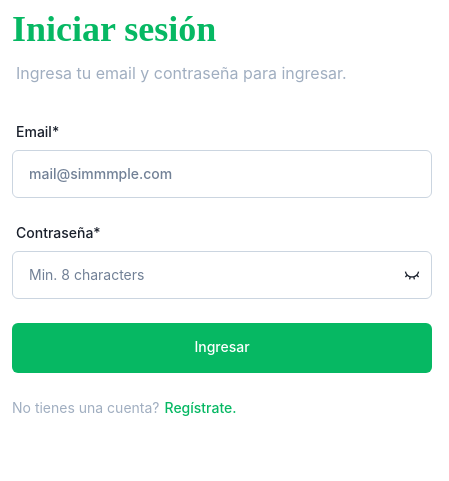
Test: FormL Component › debería mostrar un mensaje de error si ocurre un fallo en la autenticación
Step 1. Type "invalid@example.com" into the field with placeholder "mail@simmmple.com" → (222, 174), box [12,150,432,198]
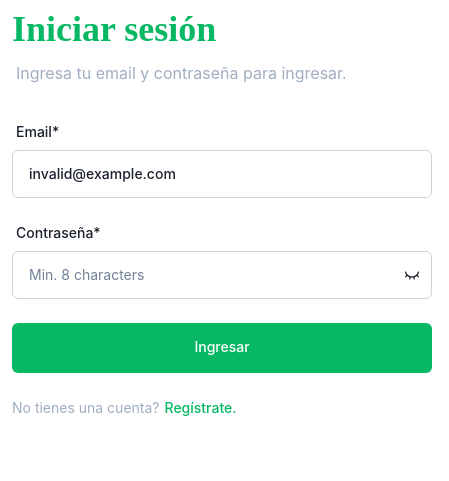
Step 2. Type "wrongpassword" into the password field with placeholder "Min. 8 characters" → (222, 275), box [12,251,432,299]
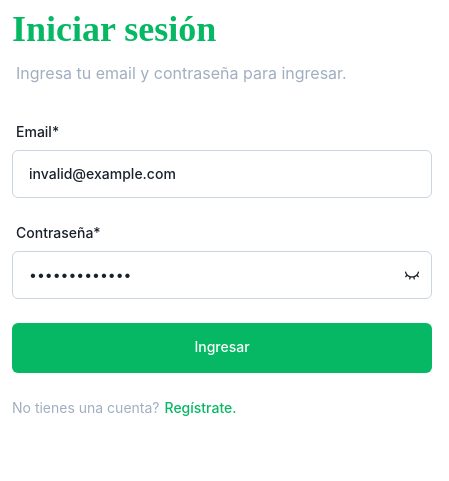
Step 3. Click the button "Ingresar" → (222, 348), box [12,323,432,373]
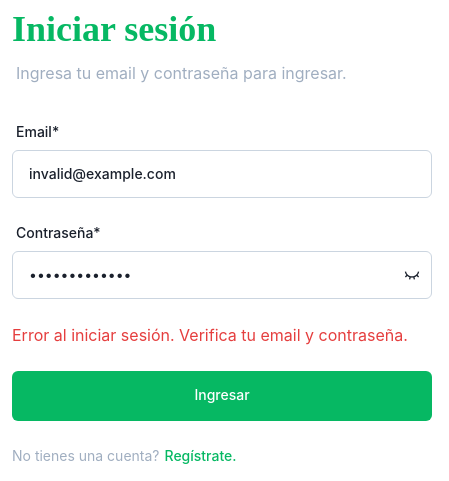
Expected: the text "Error al iniciar sesión. Verifica tu email y contraseña." is shown, [12,323,432,347]
